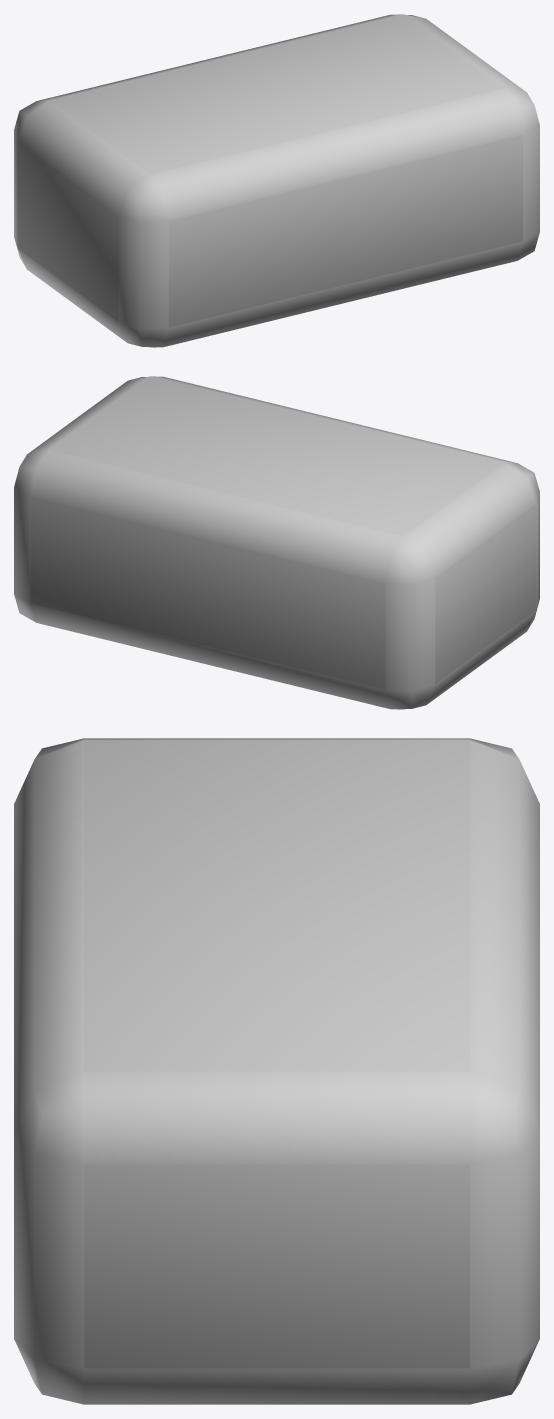
Rendered from stone_5.fbx.
3 views of the same model, one above another, from view 1: azimuth 30°, elevation 25°; view 2: azimuth 150°, elevation 25°; view 3: azimuth 270°, elevation 25° (orthographic). The views are drawn at different scales.
Visible parts, largest first — view 1: stone_5; view 2: stone_5; view 3: stone_5.
Boxes of the visible parts, <box> form: stone_5: <box>14,14,539,347</box>; stone_5: <box>14,376,539,709</box>; stone_5: <box>14,738,539,1404</box>.
Bounding box in the file's own units: 75.95 × 30.04 × 43.29.
